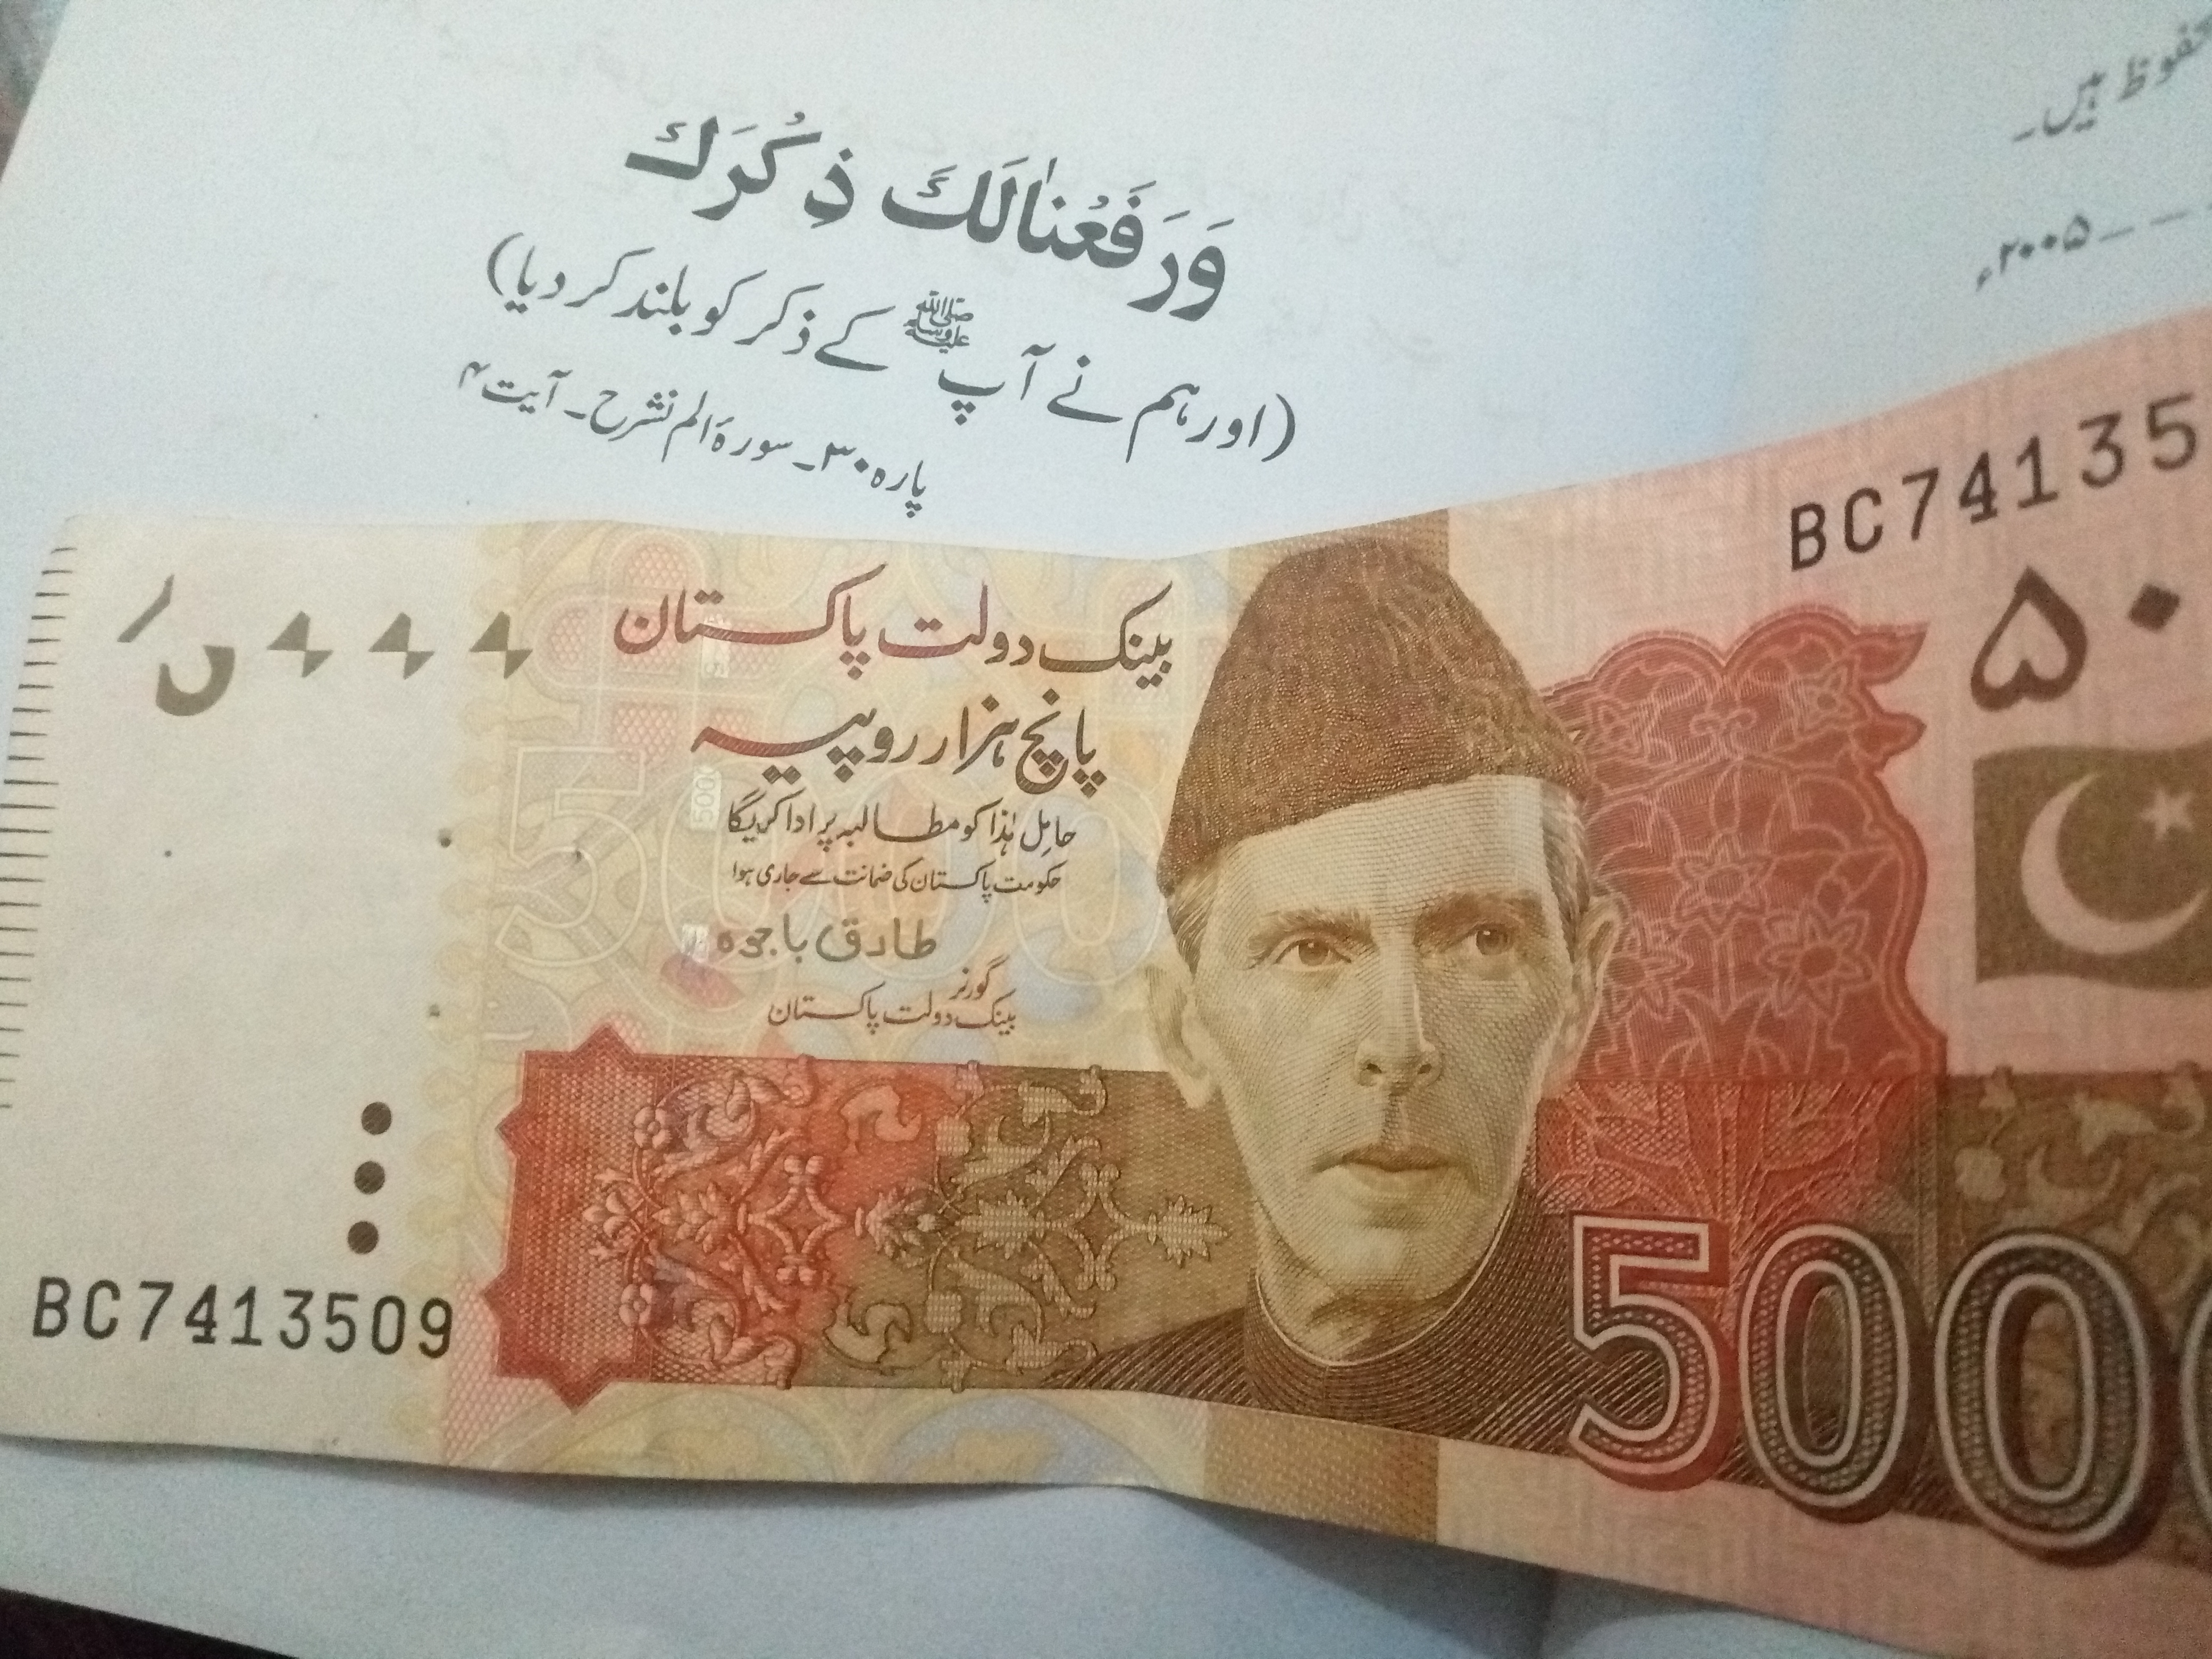5000 rupee: (54, 476, 2182, 1596), (298, 1056, 484, 1274)
